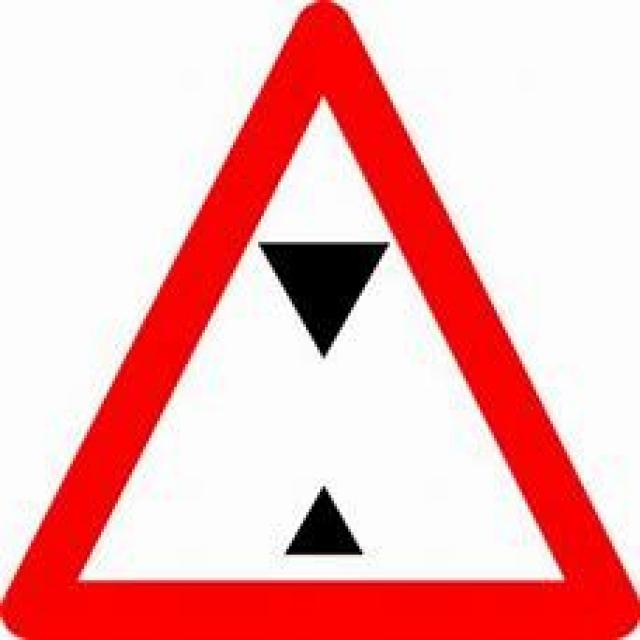HEIGHT_LIMIT: (3, 0, 637, 637)
